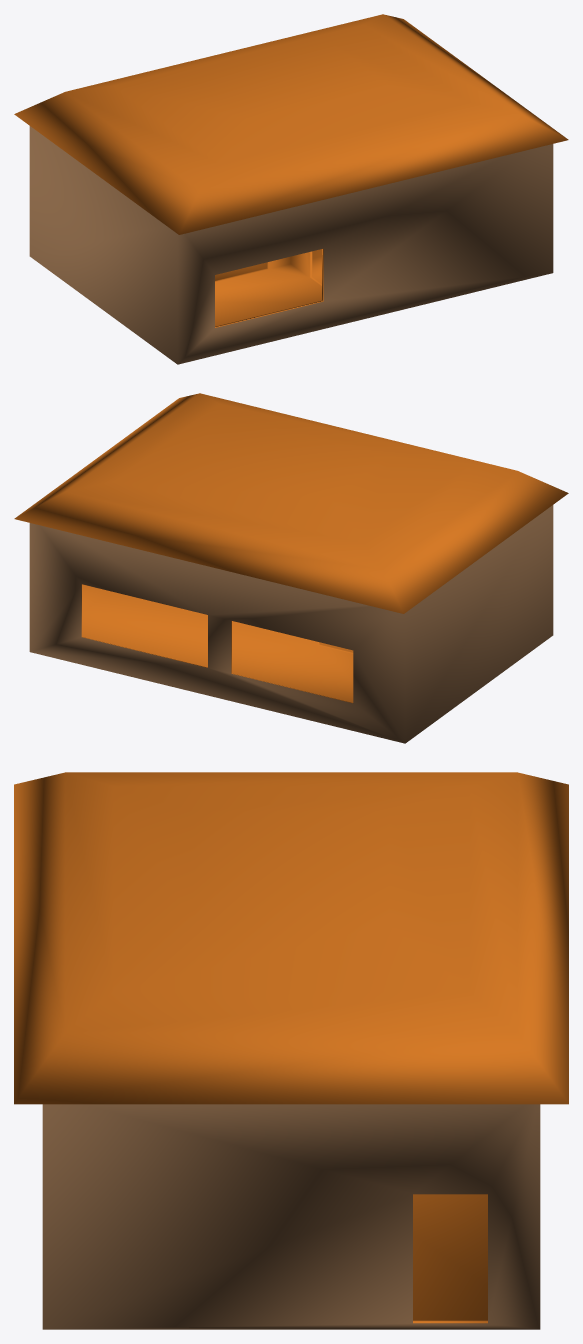
File: House1.fbx
The picture shows the model from 3 angles, top to bottom: view 1: azimuth 30°, elevation 25°; view 2: azimuth 150°, elevation 25°; view 3: azimuth 270°, elevation 25°; orthographic projection. The views are drawn at different scales.
Visible parts, largest first — view 1: Cube; view 2: Cube; view 3: Cube.
Boxes of the visible parts, x1,y1,x2,y2 form: Cube: [14, 14, 568, 364]; Cube: [14, 393, 568, 743]; Cube: [14, 772, 568, 1329].
Bounding box in the file's own units: 2531 × 1135 × 1857.
